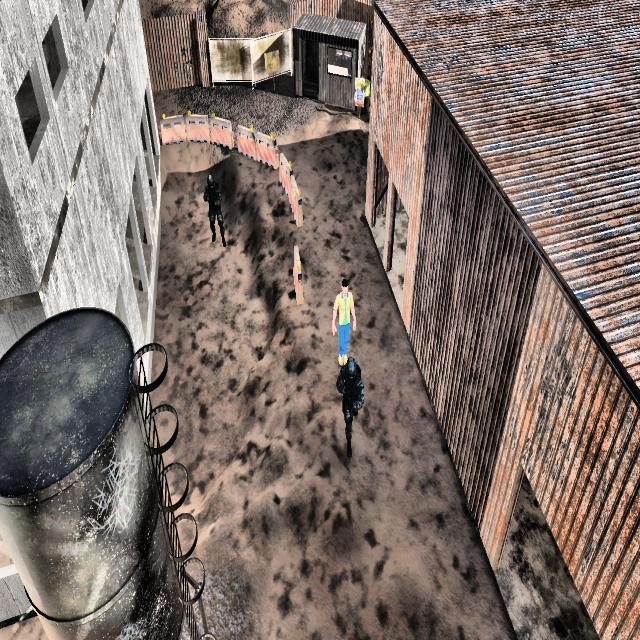bad: (337, 358, 366, 456), (200, 162, 229, 252)
good: (330, 268, 356, 362)
